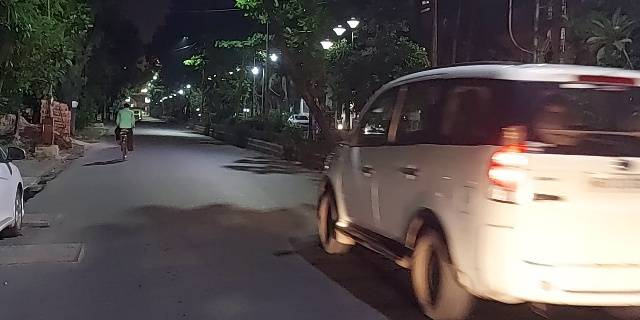Car: (317, 63, 640, 320)
Cycle: (110, 102, 139, 165)
